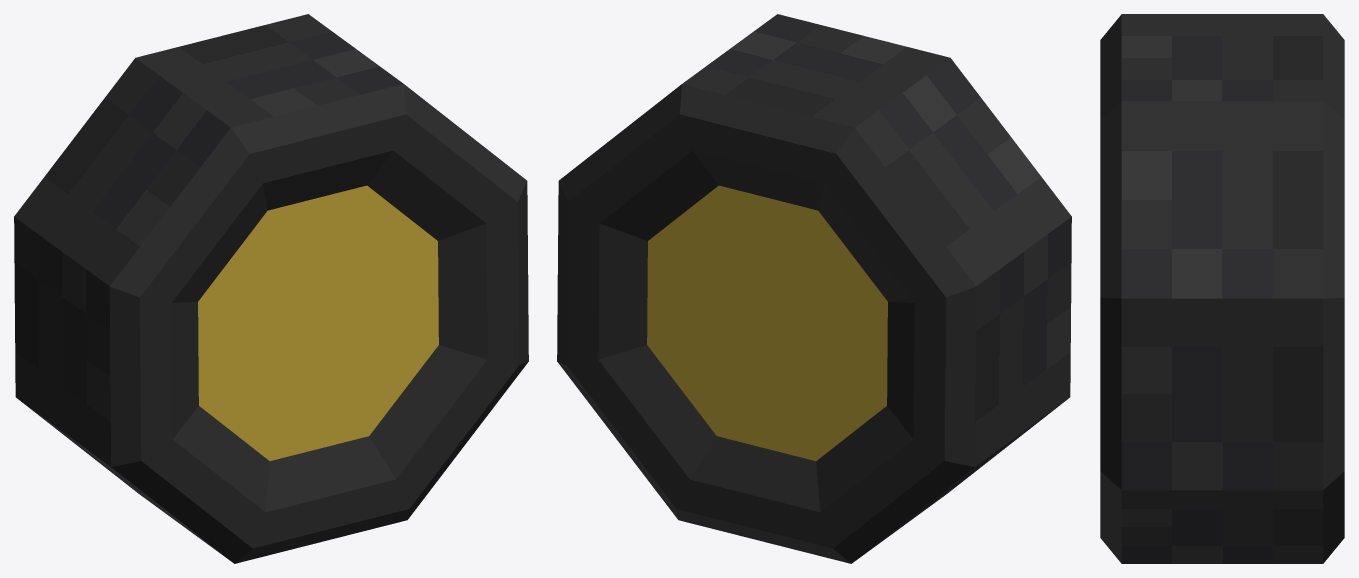
Rendered from RodaTrasJorge.fbx.
3 views of the same model, side by side, from view 1: azimuth 30°, elevation 25°; view 2: azimuth 150°, elevation 25°; view 3: azimuth 270°, elevation 25° (orthographic). The views are drawn at different scales.
Parts seen in each view (by area): view 1: Cylinder.003; view 2: Cylinder.003; view 3: Cylinder.003.
Part boxes in pixels (left/top/right/bottom): Cylinder.003: left=14, top=14, right=528, bottom=563; Cylinder.003: left=557, top=14, right=1071, bottom=563; Cylinder.003: left=1100, top=14, right=1344, bottom=563.
Bounding box in the file's own units: 83.45 × 83.45 × 40.
2 materials, 2 textured.
